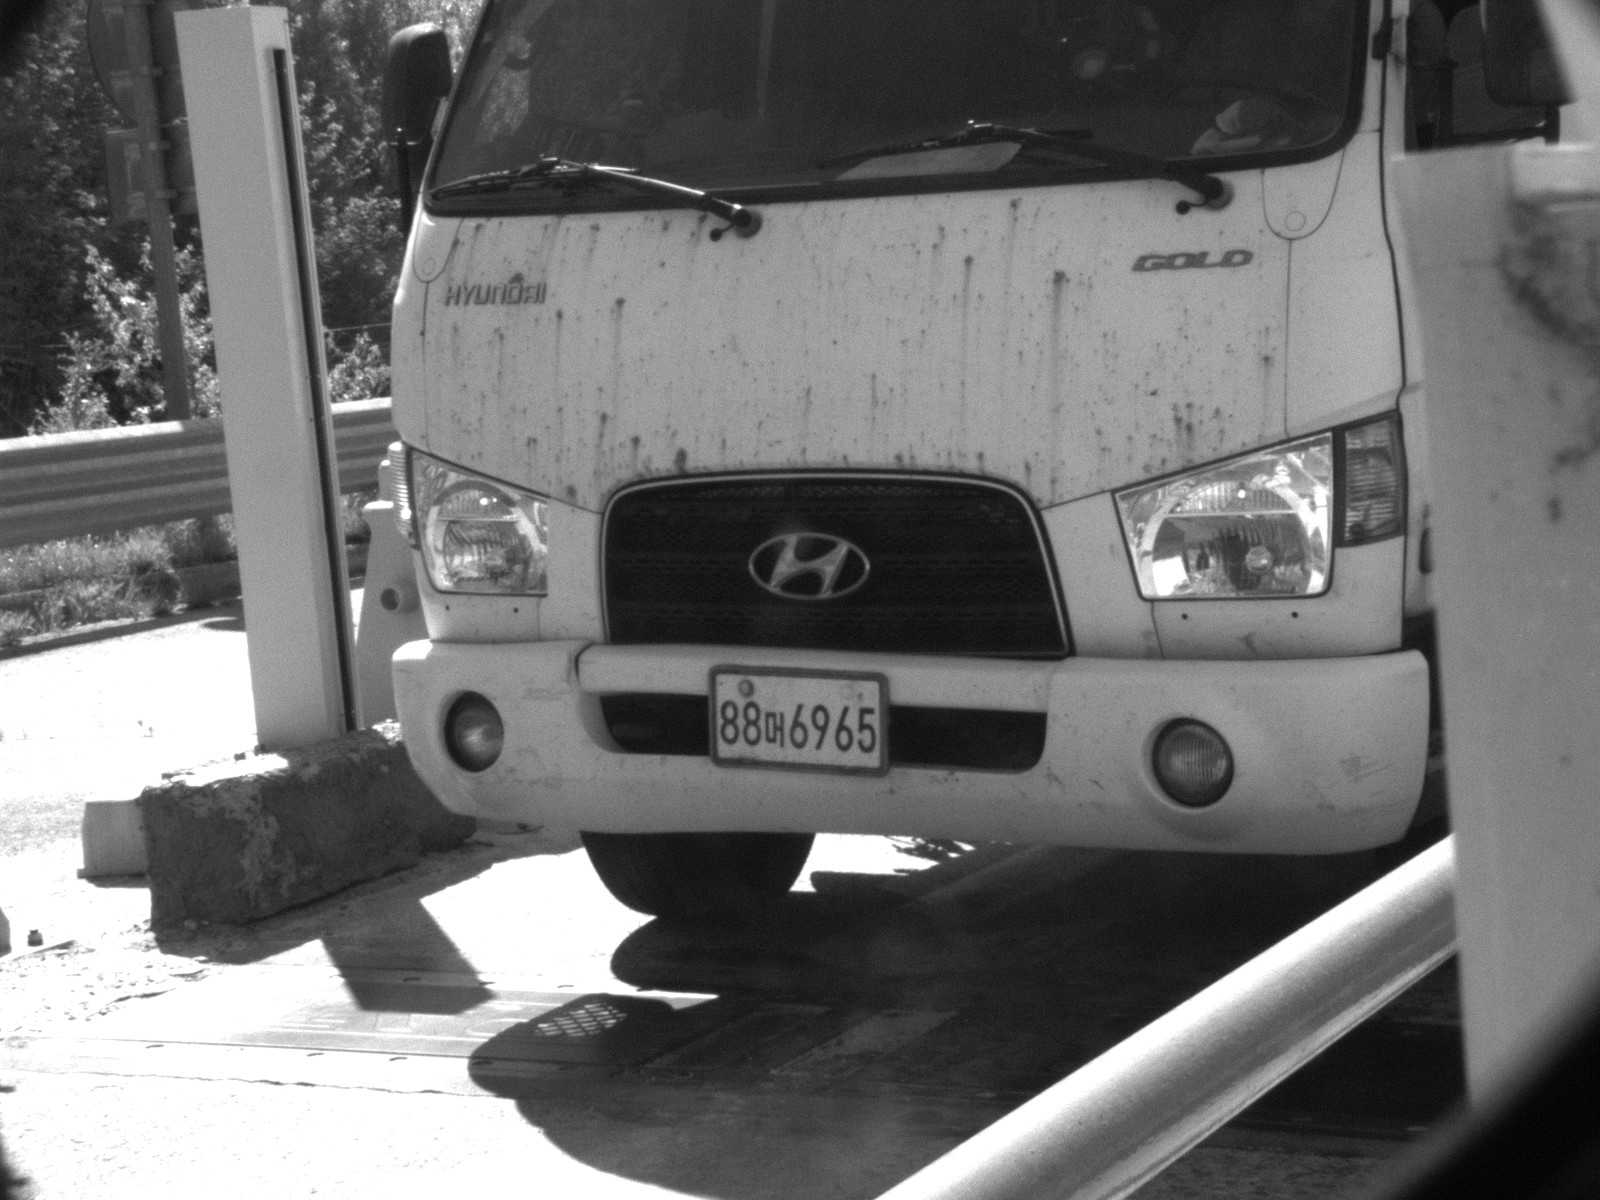car: (372, 1, 1389, 925)
plate: (705, 667, 892, 777)
